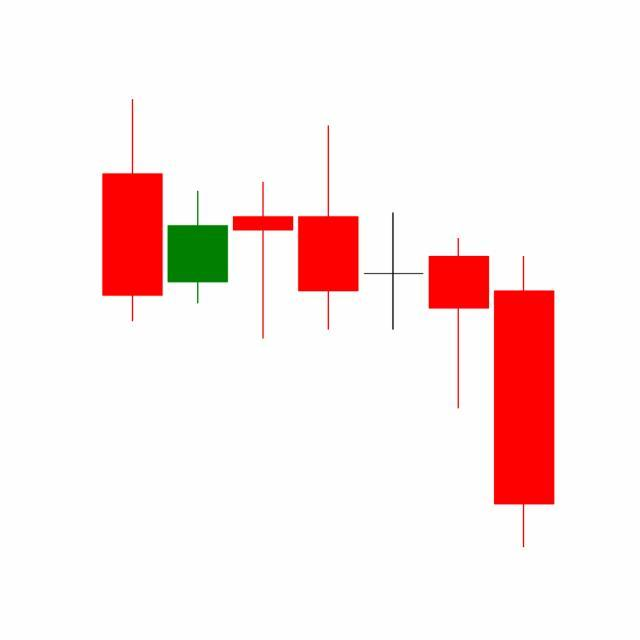Three Outside Up-Down: (360, 208, 556, 549)
